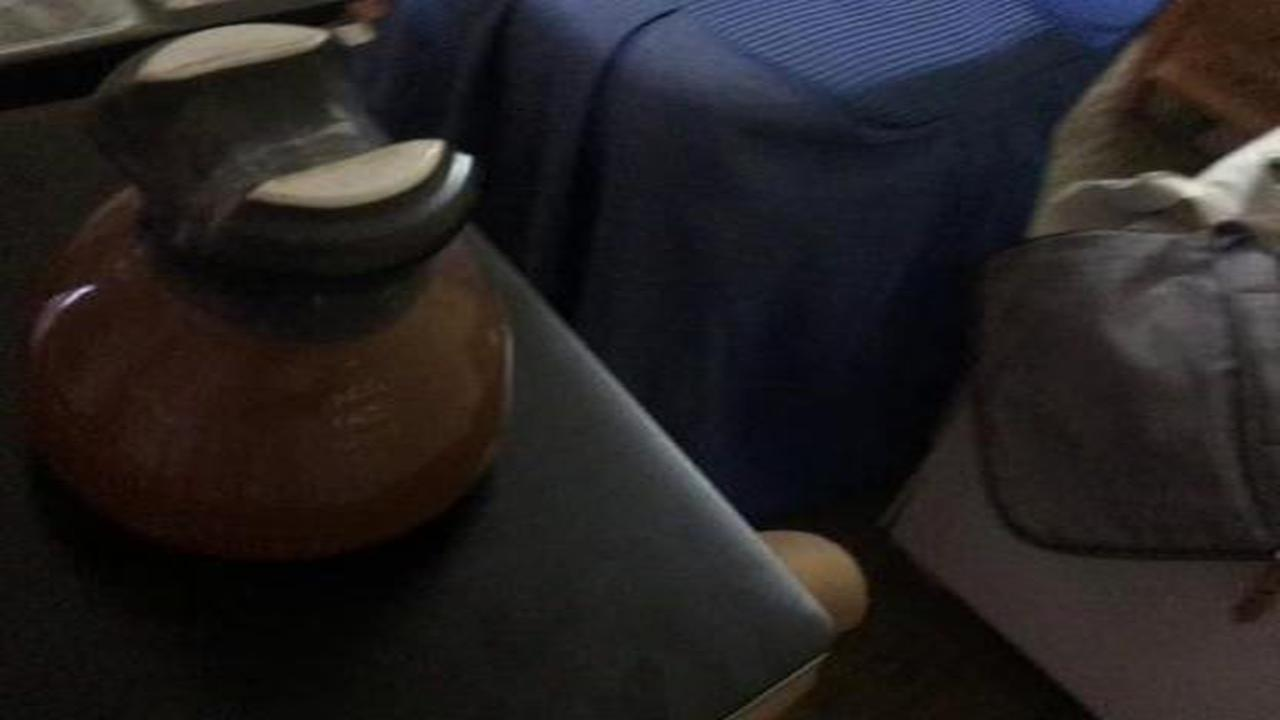insulator_pin: (10, 21, 570, 579)
